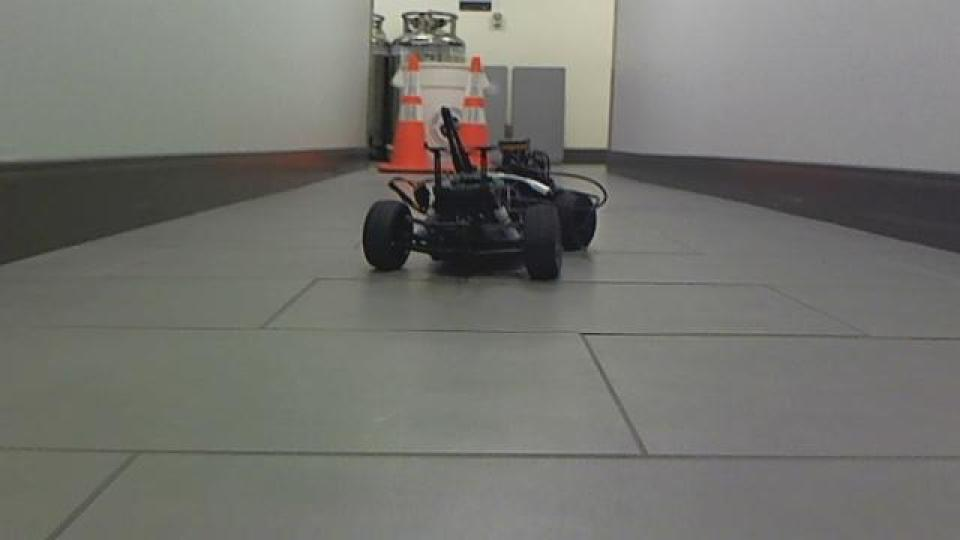car: (357, 104, 609, 284)
